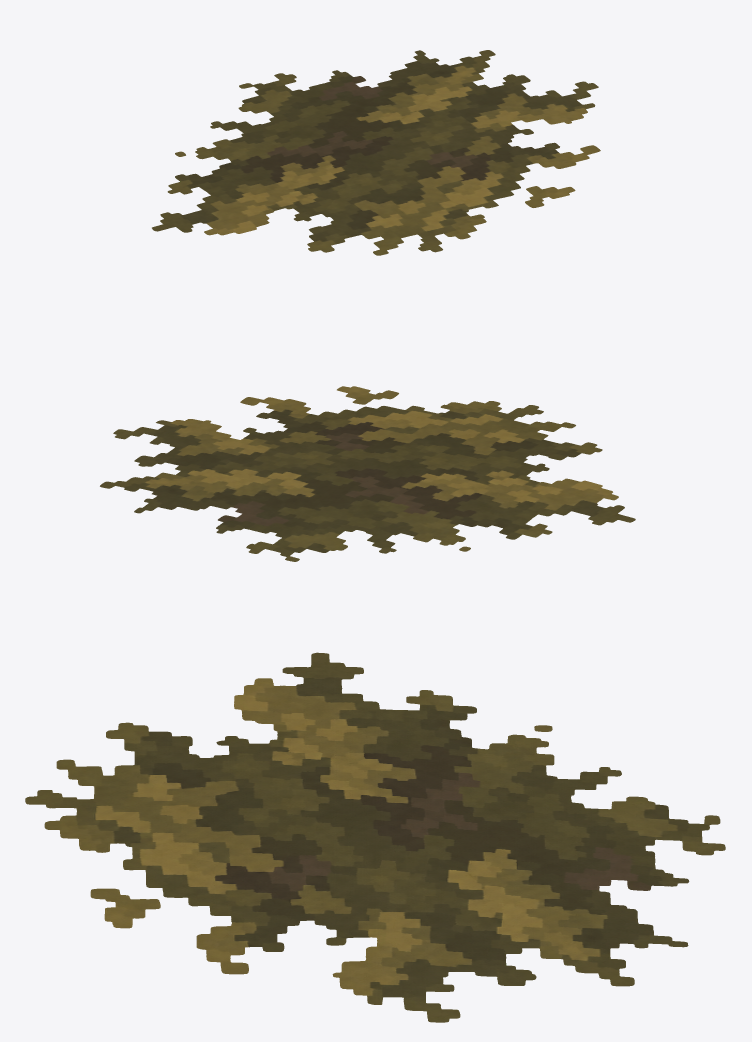
Rendered from SM_D05_MossCompact.fbx.
The picture shows the model from 3 angles, top to bottom: view 1: azimuth 30°, elevation 25°; view 2: azimuth 150°, elevation 25°; view 3: azimuth 270°, elevation 25°; orthographic projection. The views are drawn at different scales.
Visible parts, largest first — view 1: D05_Decal; view 2: D05_Decal; view 3: D05_Decal.
Boxes of the visible parts, left/top/right/bottom form: D05_Decal: left=152, top=50, right=600, bottom=255; D05_Decal: left=100, top=386, right=635, bottom=561; D05_Decal: left=25, top=652, right=725, bottom=1022.
Bounding box in the file's own units: 0.7 × 0.008 × 0.5638.
